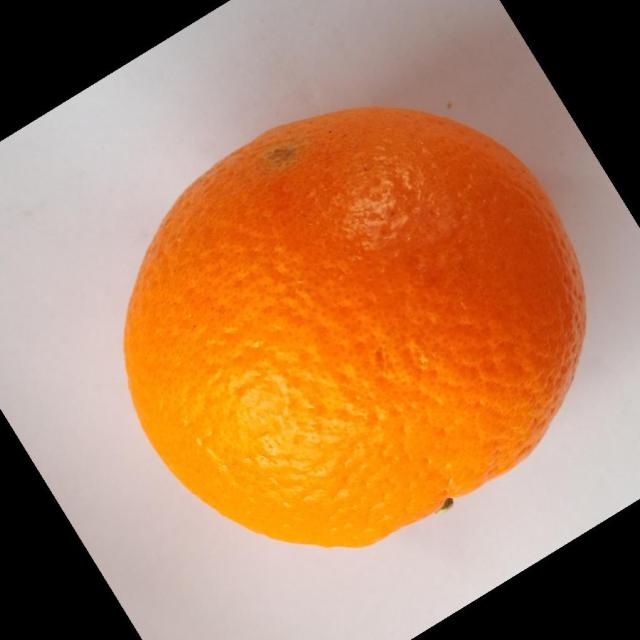agrume: (122, 104, 587, 549)
